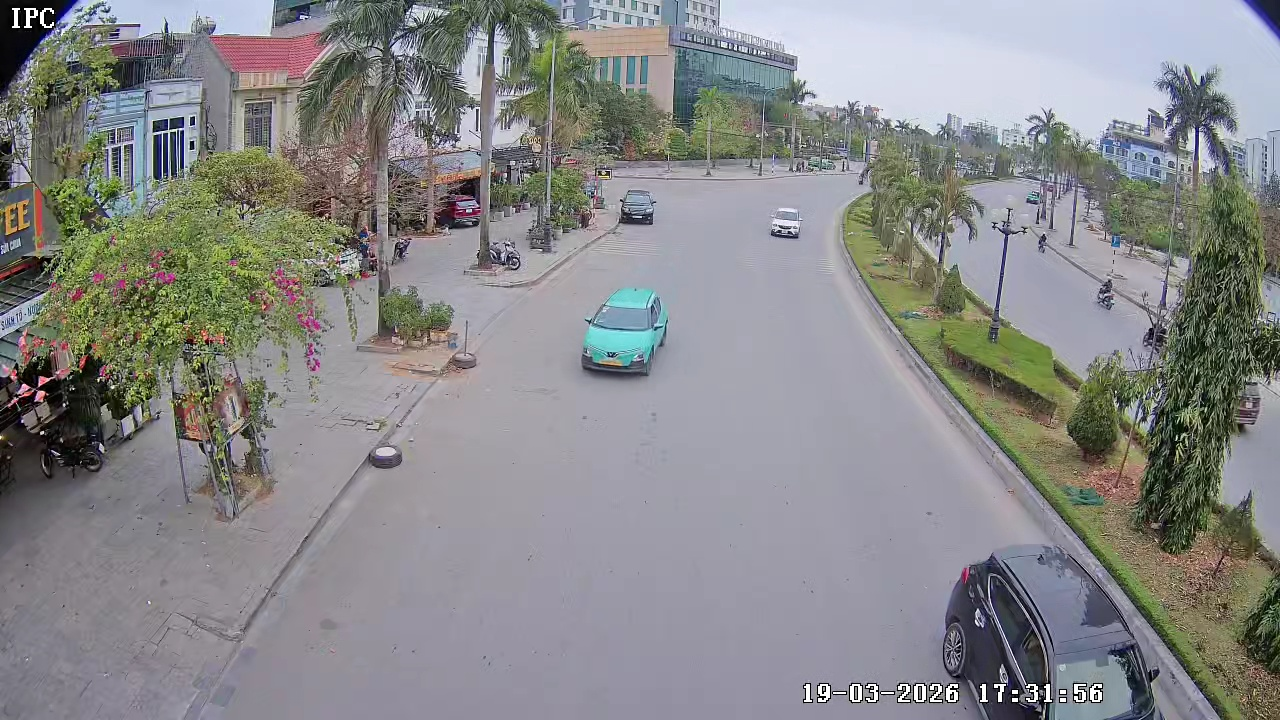car: (939, 541, 1183, 719), (581, 286, 669, 376), (617, 187, 657, 224), (768, 205, 804, 240)
motorbike: (1095, 272, 1116, 312)
